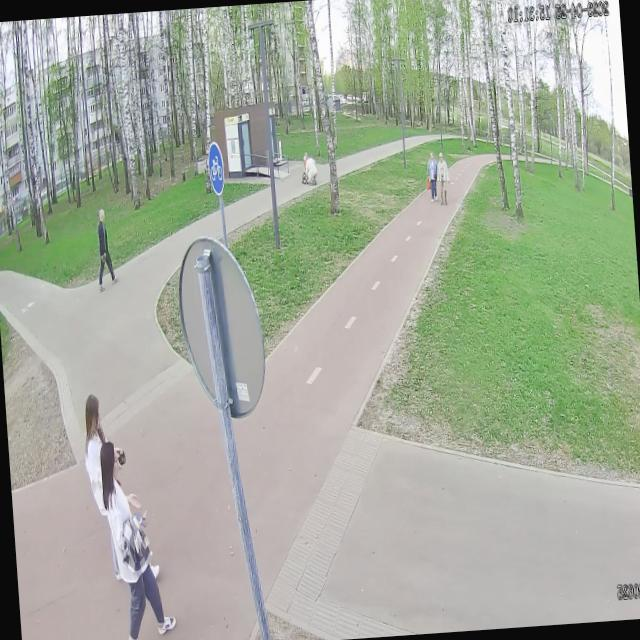person: (99, 436, 178, 640), (80, 392, 134, 585), (93, 206, 120, 292)
